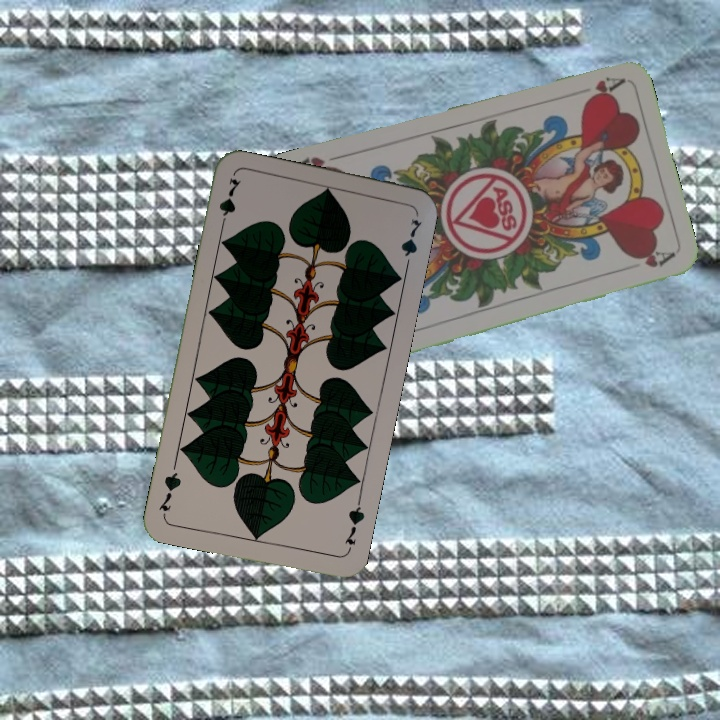G7: (215, 174, 243, 232), (340, 496, 367, 554)
HA: (581, 73, 625, 104)
